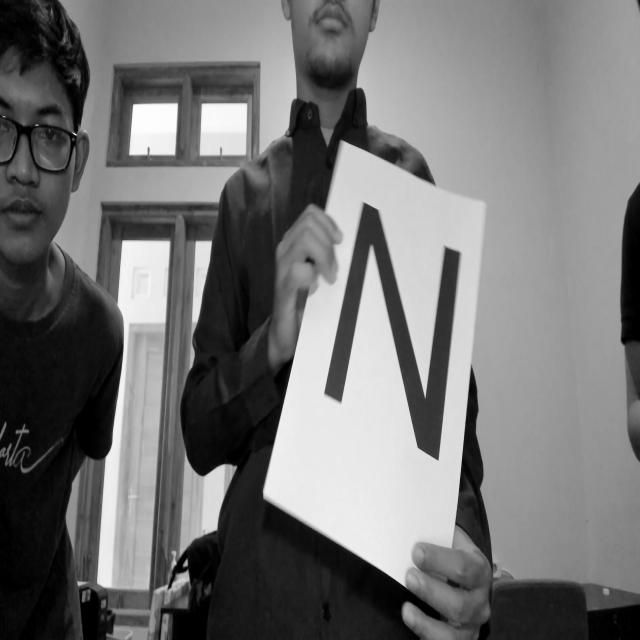n: (312, 163, 465, 474)
